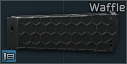AK Hexagon "Wafflemaker" 5.45x39 sound suppressor: (0, 0, 127, 64)
